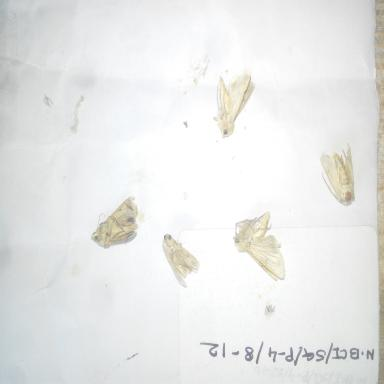abw: (228, 206, 290, 287), (83, 189, 143, 254), (209, 67, 258, 146), (318, 137, 360, 214), (157, 229, 203, 290)
